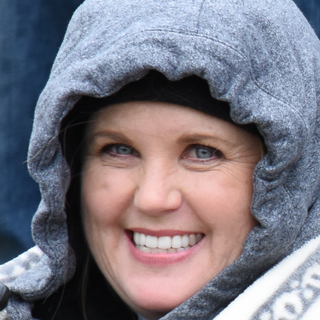eye: (176, 140, 226, 165), (95, 138, 142, 163)
